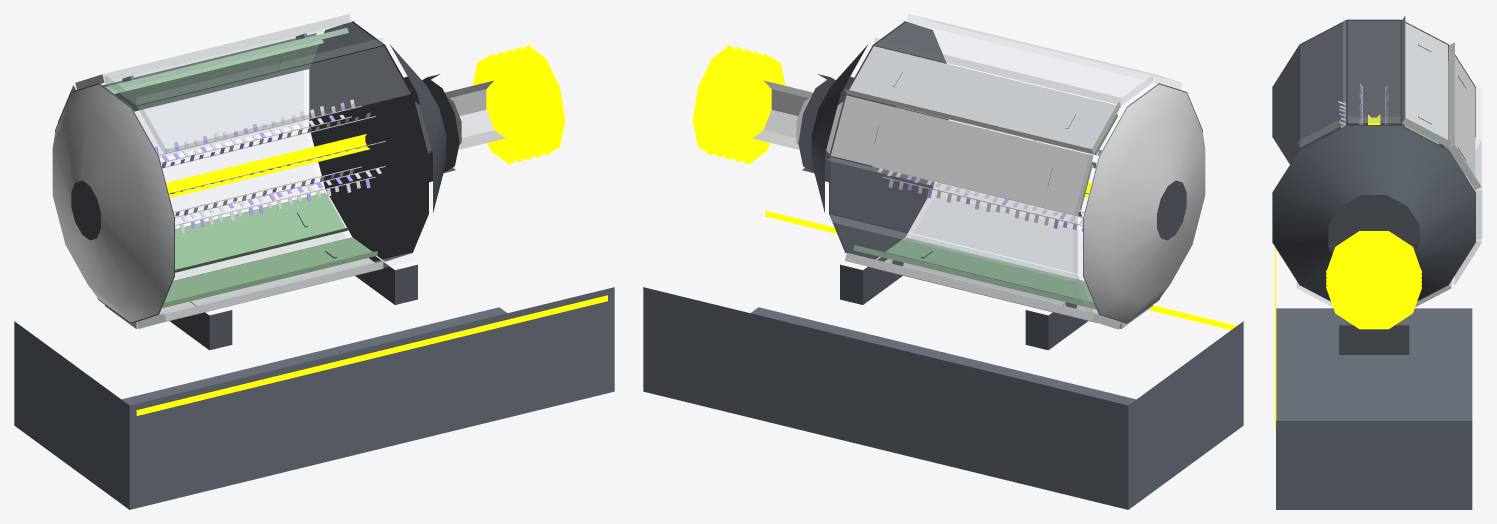
Rendered from ext_memorial_aegis_04b.glb.
The picture shows the model from 3 angles, left to right: view 1: azimuth 30°, elevation 25°; view 2: azimuth 150°, elevation 25°; view 3: azimuth 270°, elevation 25°; orthographic projection. The views are drawn at different scales.
Visible parts, largest first — view 1: Plinth, Drum_Solarium_Glass, Bulkhead_Discs, Fwd_Endcap_Dome, Valley_Land, Drum_Hull_Strips, Fusion_Coils, Saddles, Axial_Sun_Spine, Plinth_Seam, Starport_Spine, Aft_Baffle_Bulkhead (+4 smaller); view 2: Plinth, Drum_Hull_Strips, Drum_Solarium_Glass, Fwd_Endcap_Dome, Bulkhead_Discs, Fusion_Coils, Valley_Land, Saddles, Starport_Spine, Aft_Baffle_Bulkhead, Docking_Collar, Plinth_Seam (+2 smaller); view 3: Plinth, Aft_Baffle_Bulkhead, Bulkhead_Discs, Drum_Solarium_Glass, Drum_Hull_Strips, Fusion_Coils, Saddles, Docking_Collar, Plinth_Seam.
Boxes of the visible parts, x1,y1,x2,y2 form: Plinth: (14,287,614,509); Drum_Solarium_Glass: (105,23,412,329); Bulkhead_Discs: (55,21,428,323); Fwd_Endcap_Dome: (52,83,174,322); Valley_Land: (105,28,377,308); Drum_Hull_Strips: (57,14,383,328); Fusion_Coils: (472,44,565,164); Saddles: (170,256,417,350); Axial_Sun_Spine: (166,134,369,197); Plinth_Seam: (136,295,607,415); Starport_Spine: (414,80,505,153); Aft_Baffle_Bulkhead: (390,45,446,212); Plinth: (643,287,1243,509); Drum_Hull_Strips: (830,46,1152,329); Drum_Solarium_Glass: (827,14,1181,317); Fwd_Endcap_Dome: (1083,83,1205,322); Bulkhead_Discs: (829,21,1202,323); Fusion_Coils: (692,44,785,164); Valley_Land: (853,114,1117,309); Saddles: (840,257,1087,350); Starport_Spine: (752,80,843,153); Aft_Baffle_Bulkhead: (811,45,867,212); Docking_Collar: (798,74,835,172); Plinth_Seam: (765,210,1236,329); Plinth: (1276,308,1472,509); Aft_Baffle_Bulkhead: (1273,125,1475,300); Bulkhead_Discs: (1272,19,1475,301); Drum_Solarium_Glass: (1297,16,1482,306); Drum_Hull_Strips: (1401,16,1481,306); Fusion_Coils: (1326,231,1421,329); Saddles: (1339,325,1409,354); Docking_Collar: (1332,212,1416,251); Plinth_Seam: (1275,247,1276,428).
Size of the model in its own units: 3.4 by 2.47 by 1.5.
